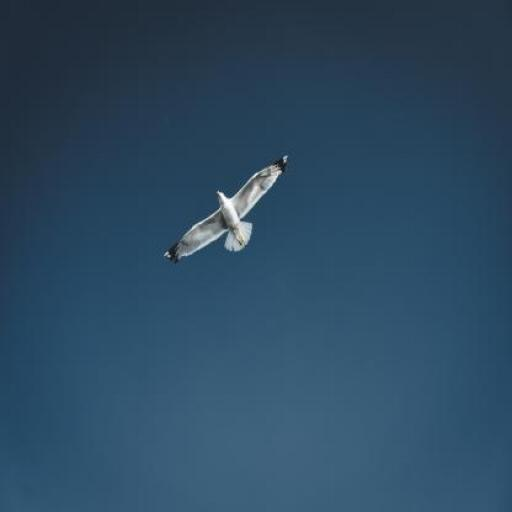bird: (164, 156, 288, 268)
